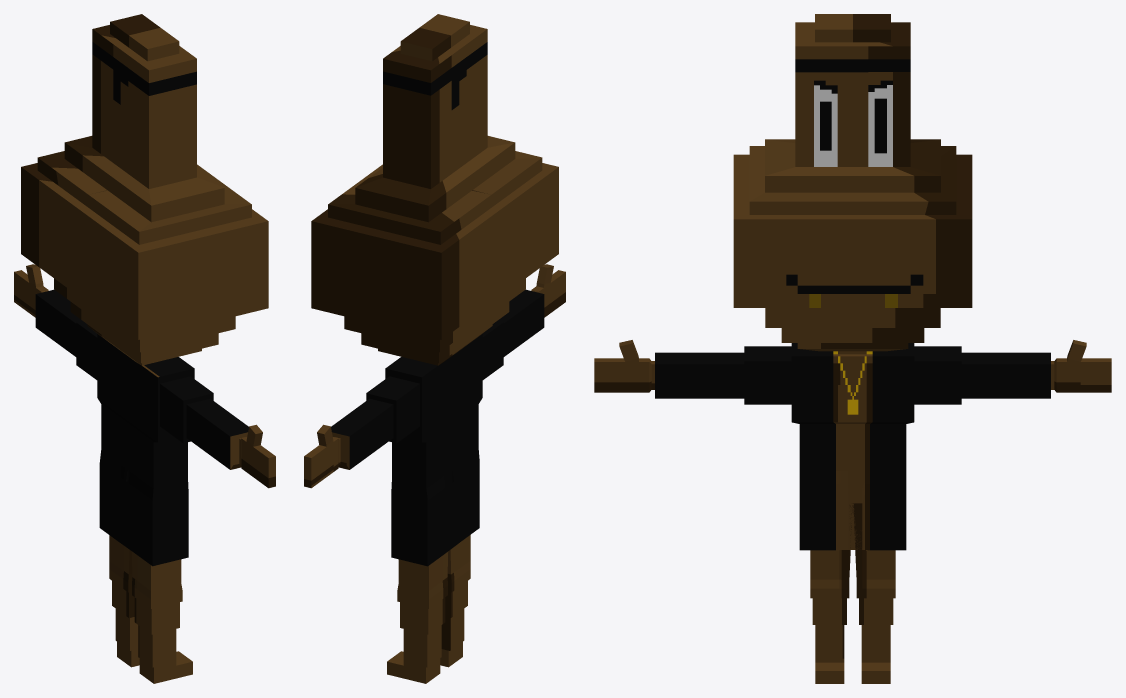
Rendered from Dog23000Dog.fbx.
The picture shows the model from 3 angles, left to right: view 1: azimuth 30°, elevation 25°; view 2: azimuth 150°, elevation 25°; view 3: azimuth 270°, elevation 25°; orthographic projection.
Visible parts, largest first — view 1: Cube.001; view 2: Cube.001; view 3: Cube.001.
Boxes of the visible parts, x1,y1,x2,y2 form: Cube.001: (14, 14, 275, 683); Cube.001: (304, 14, 565, 683); Cube.001: (594, 14, 1111, 683).
Size of the model in its own units: 15.67 by 73.31 by 53.12.
